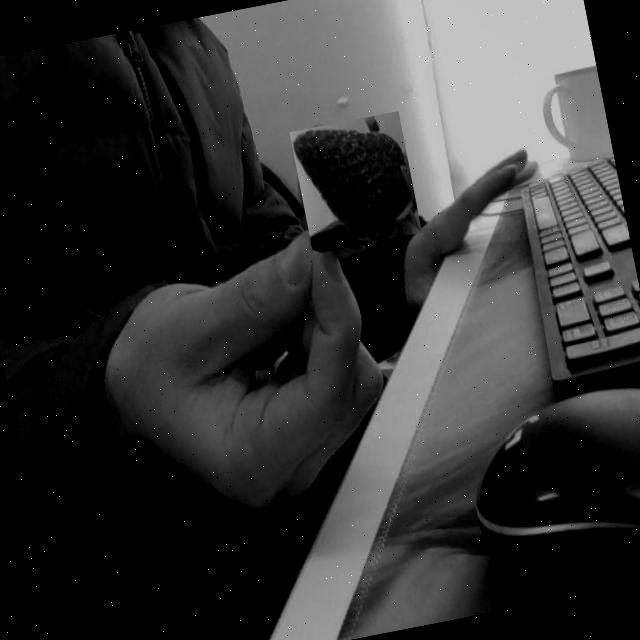ripe: (290, 112, 422, 255)
